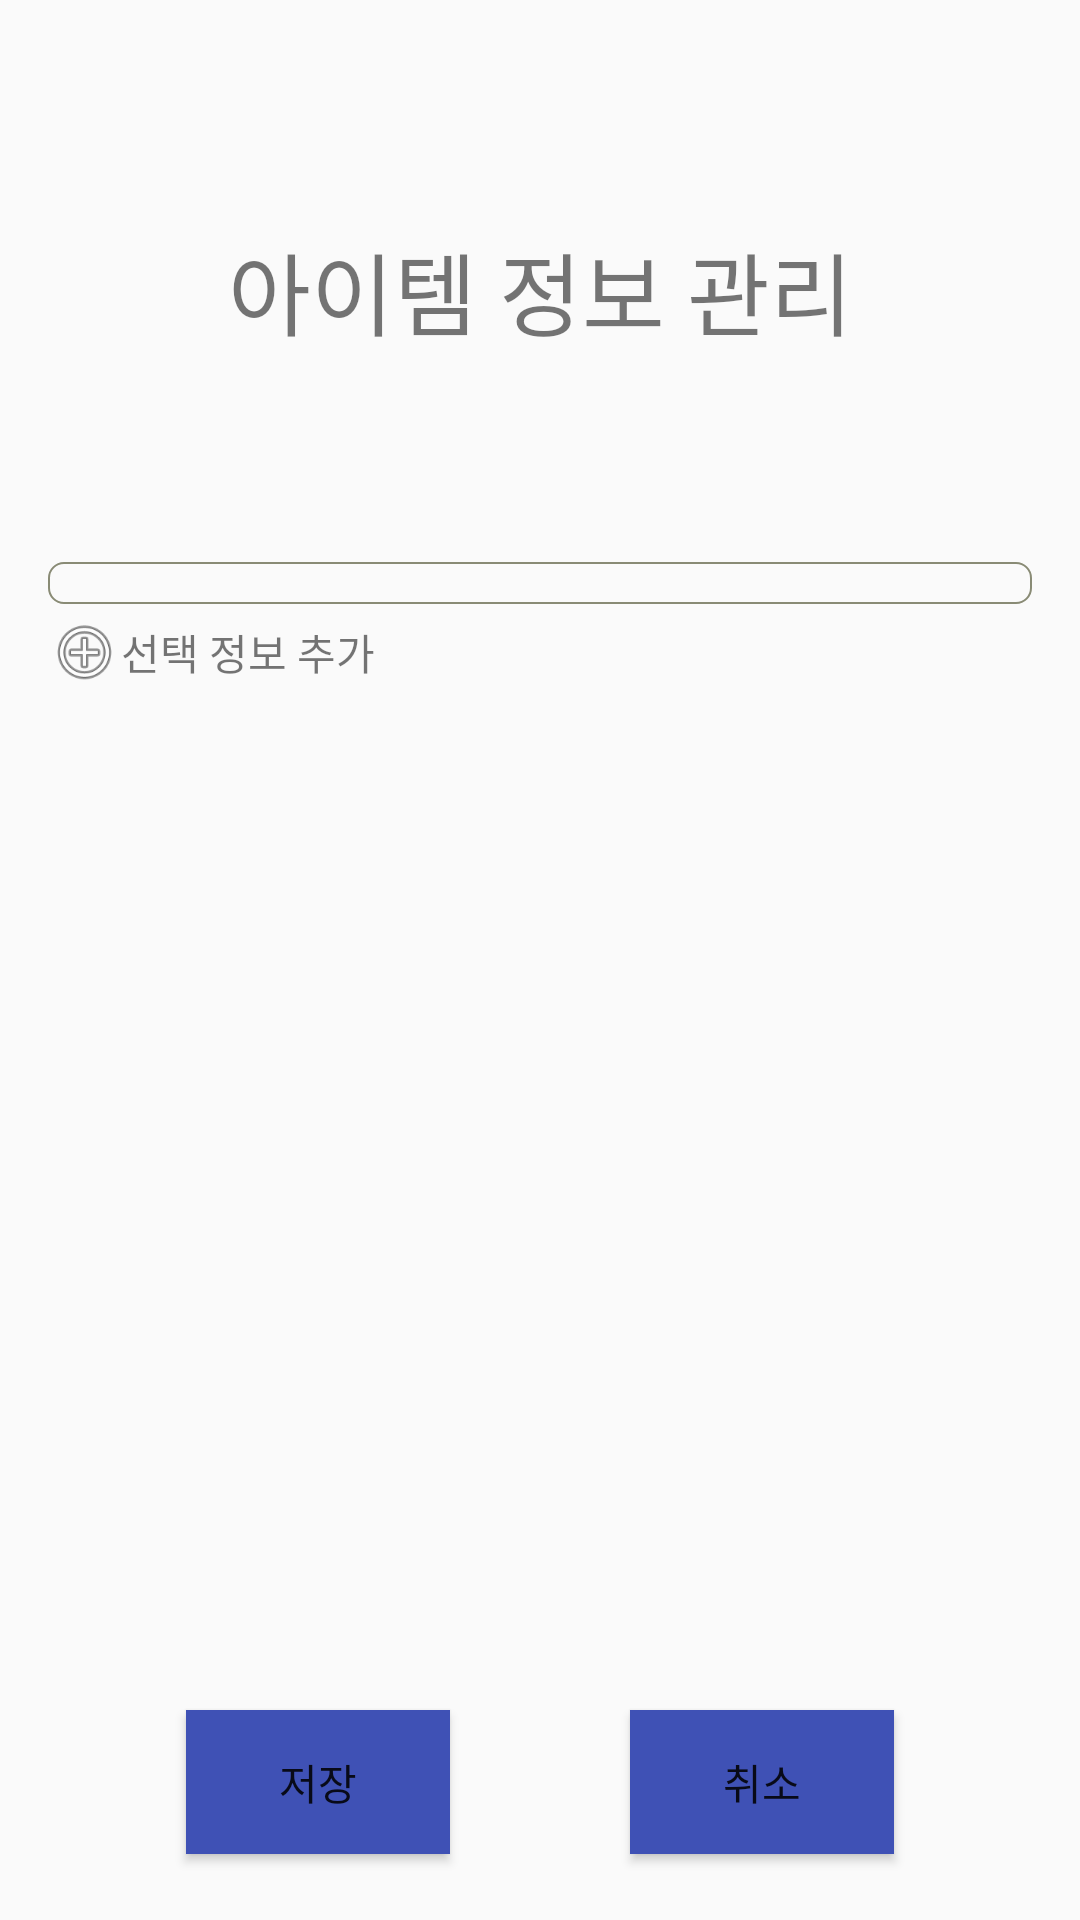

Locate icon controls on the screen. Image size 1080px x 1920px, boxes as (x1, y1, x2, y2).
add: (57, 625, 112, 680)
